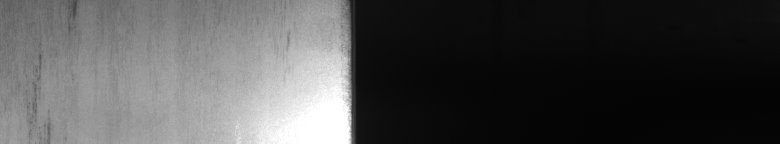ka: (27, 4, 80, 136)
